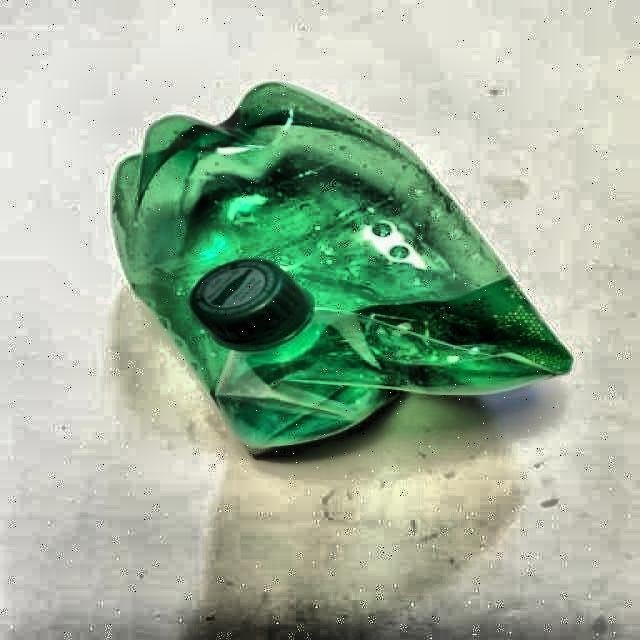plastic: (113, 82, 572, 453)
